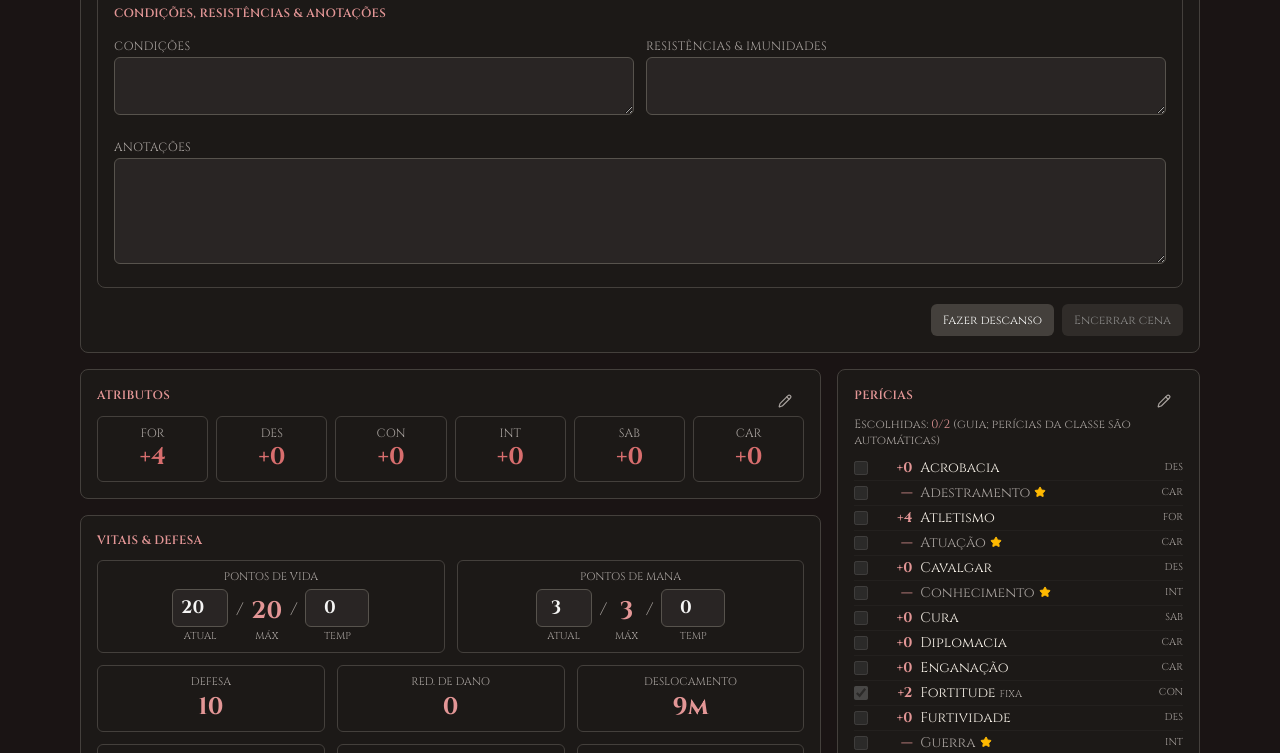
Test: SheetEditor (página única) › recalcula o bônus de perícia ao treinar
The width and height of the screenshot is (1280, 753).
(page scrolled)
What coordinates should you click on to do the following:
click the button named "editar perícias"
I would click on:
 (1164, 400)
Its box is [1145,386,1183,416].
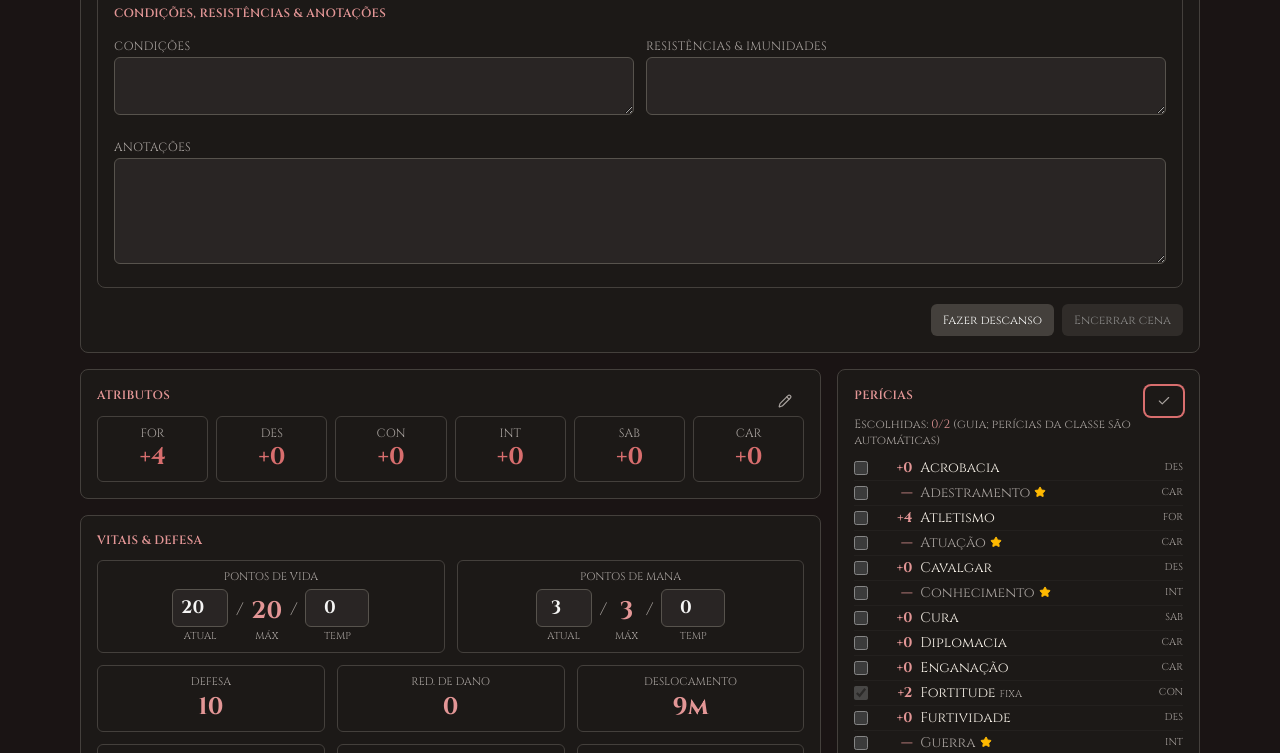
Expected: the text "+4" next to "Atletismo" is shown, [897,508,912,526]
What coordinates should you click on to do the following:
click the checkbox named "treinar atletismo"
I would click on:
 (861, 518)
Its box is [854,510,868,524].
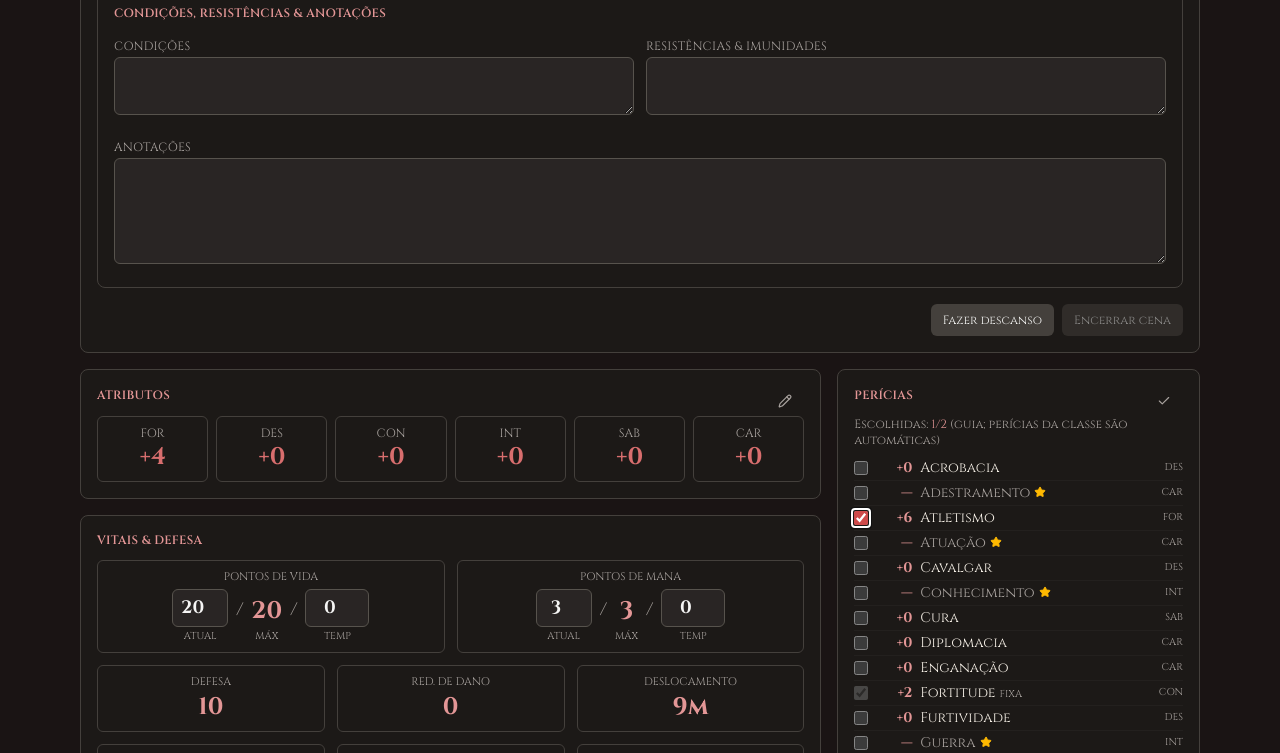
Now the text "+6" next to "Atletismo" is shown, box [897,508,912,526]
